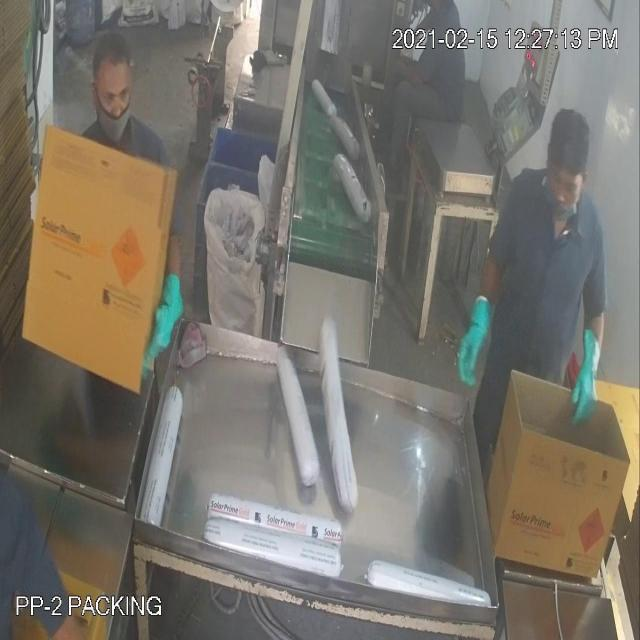Gloves: (38, 104, 587, 382)
